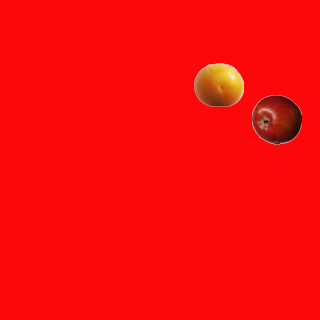Apple Braeburn: (251, 94, 301, 144)
Cherry Wax Yellow: (193, 59, 243, 109)
